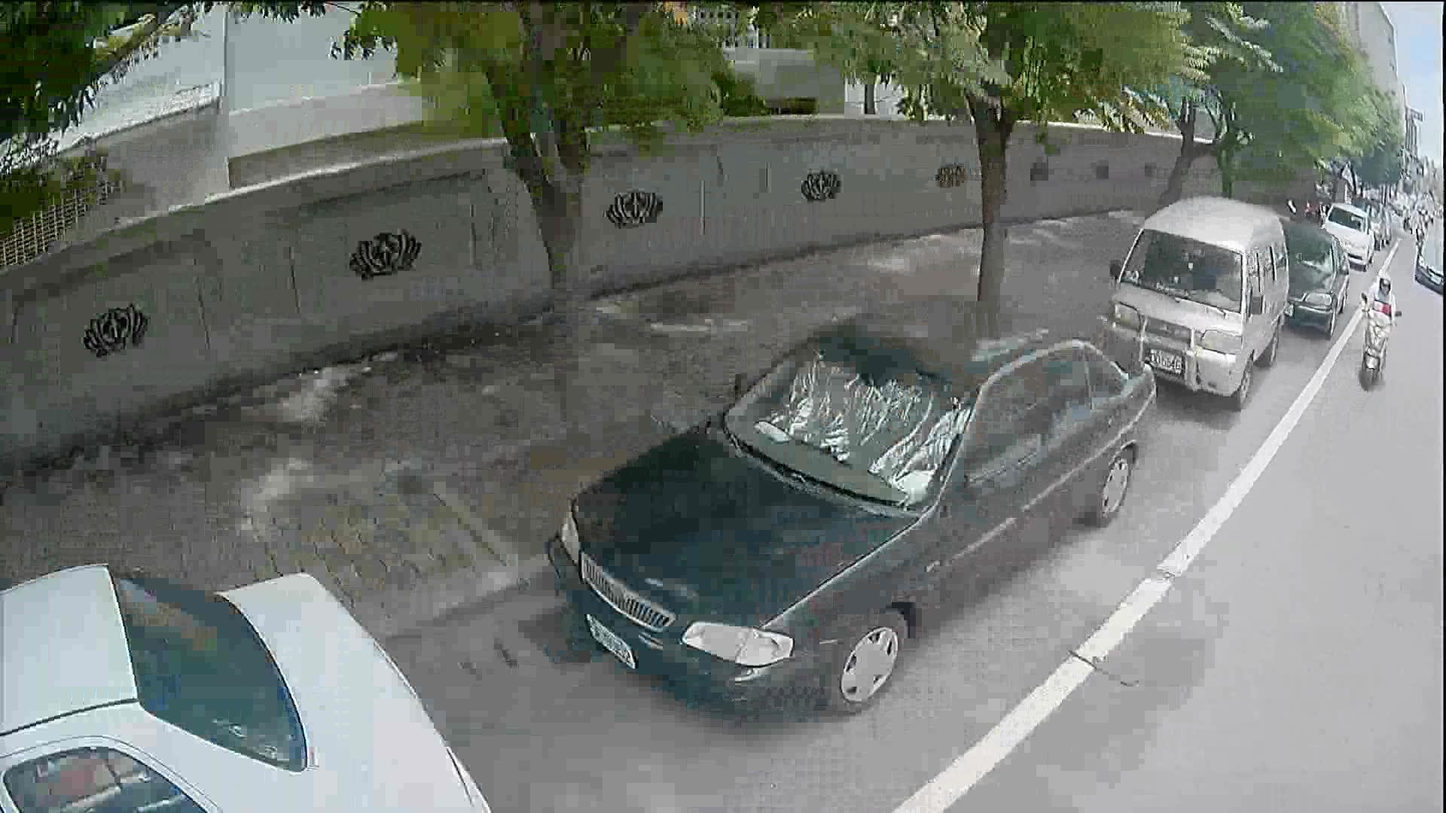person: (1364, 276, 1396, 322)
